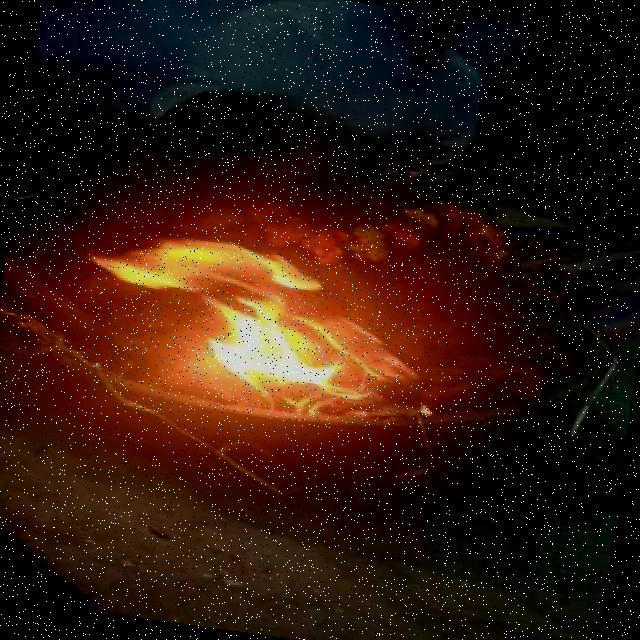Fire: (107, 225, 415, 427)
